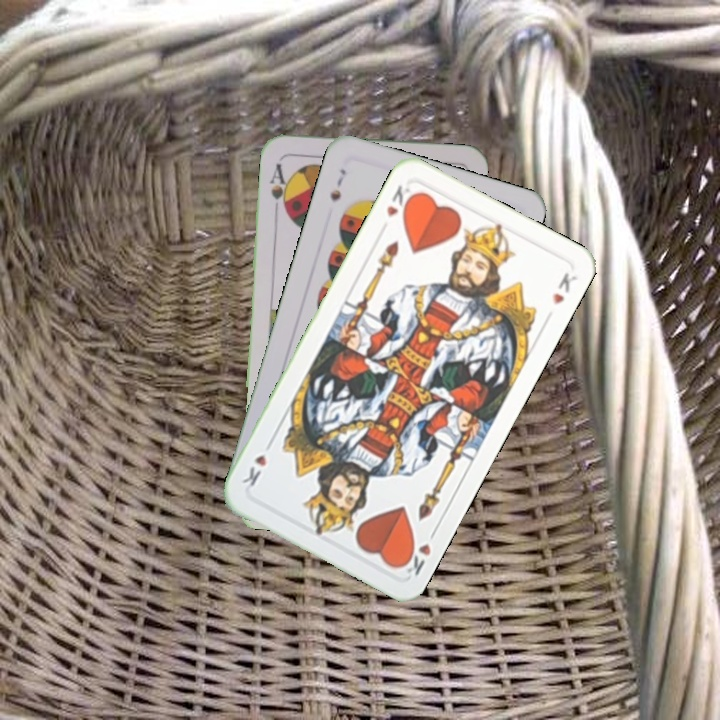HK: (396, 524, 440, 579), (382, 179, 417, 221)
S7: (326, 164, 349, 205)
SA: (266, 159, 293, 214)
